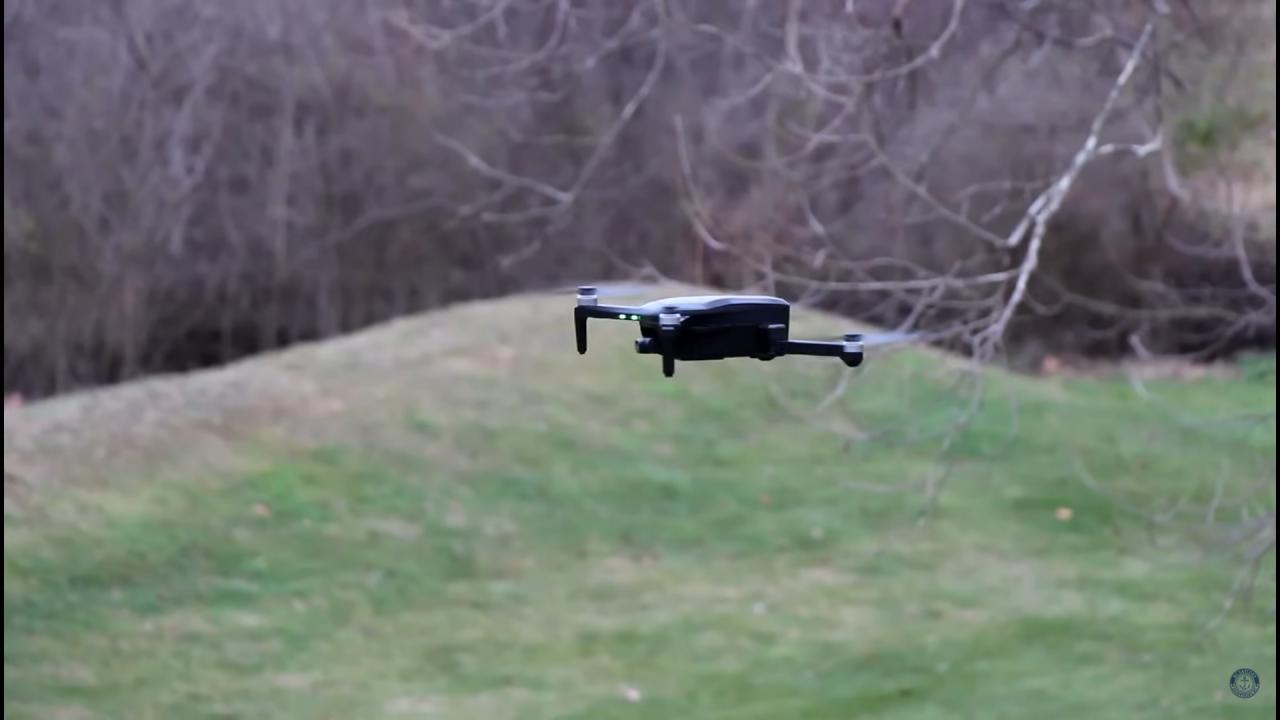Drone: (507, 262, 950, 395)
